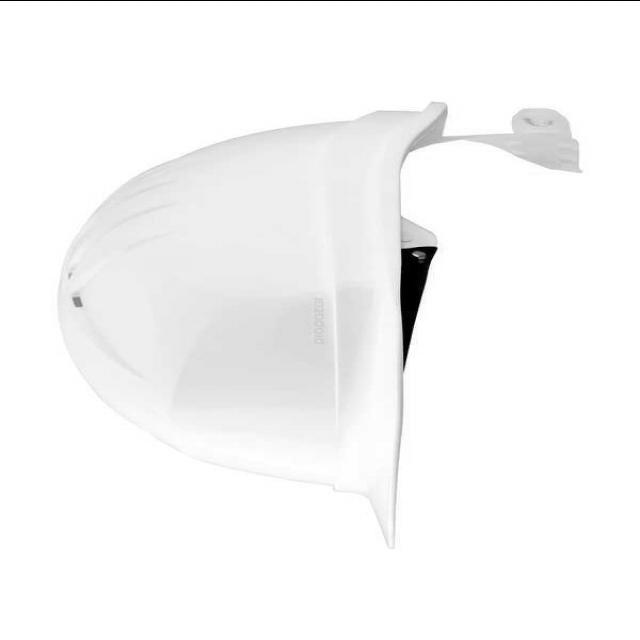construction helmet: (55, 100, 448, 549)
